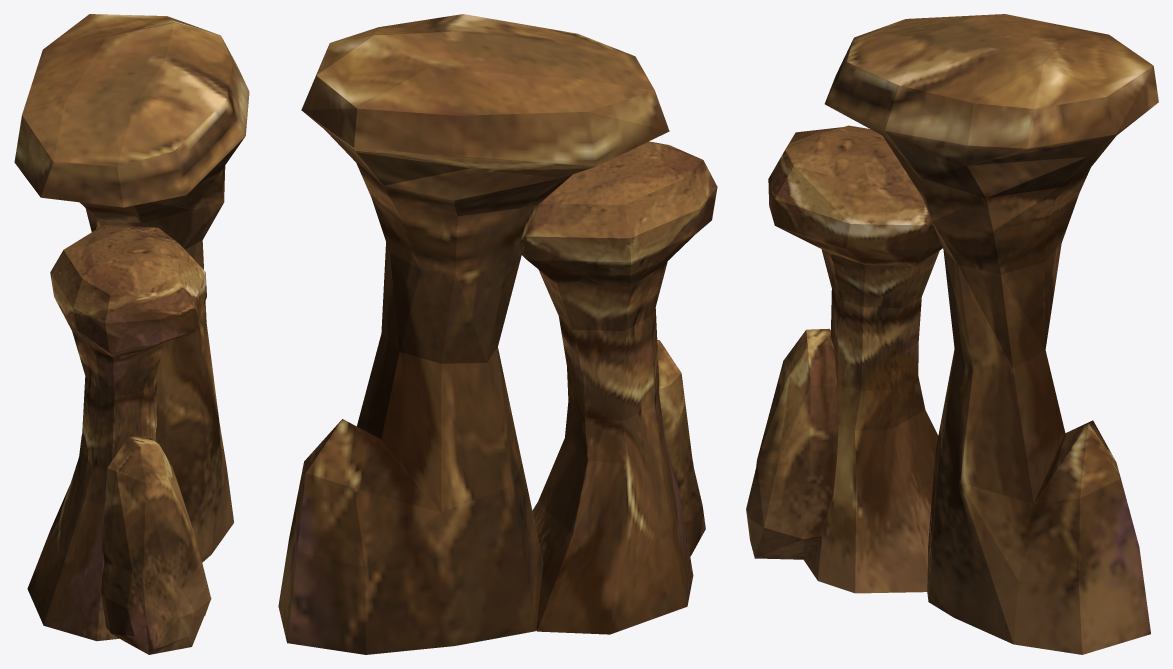
The model's file is ShiTou07.FBX.
The picture shows the model from 3 angles, left to right: view 1: azimuth 30°, elevation 25°; view 2: azimuth 150°, elevation 25°; view 3: azimuth 270°, elevation 25°; orthographic projection. The views are drawn at different scales.
Visible parts, largest first — view 1: ShiTou07; view 2: ShiTou07; view 3: ShiTou07.
Part boxes in pixels (x1,y1,x2,y2): ShiTou07: (14, 14, 249, 654); ShiTou07: (278, 14, 717, 654); ShiTou07: (746, 14, 1158, 654).
Bounding box in the file's own units: 132 × 237 × 159.
